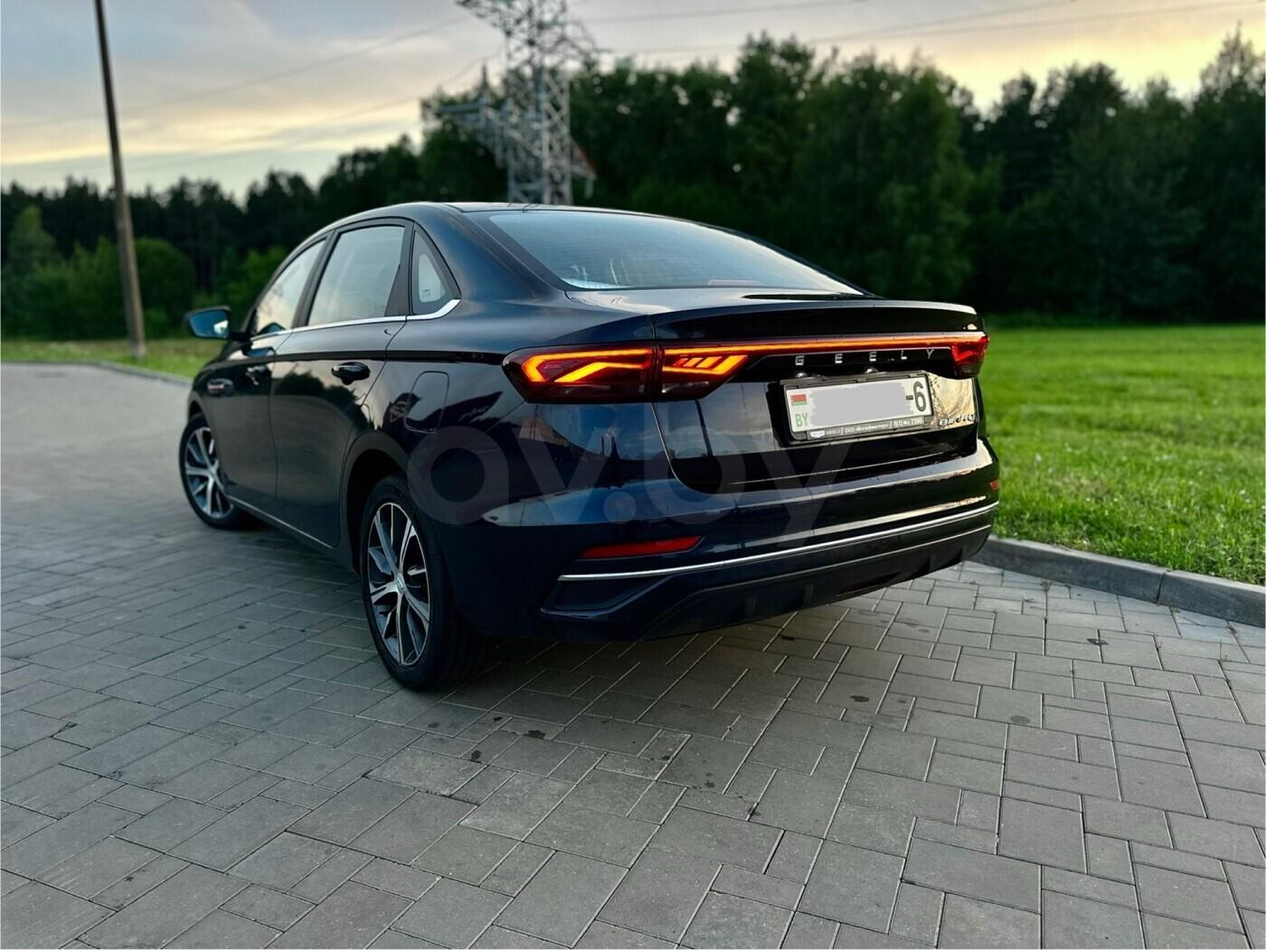Emgrand_2021: (178, 196, 1005, 700)
